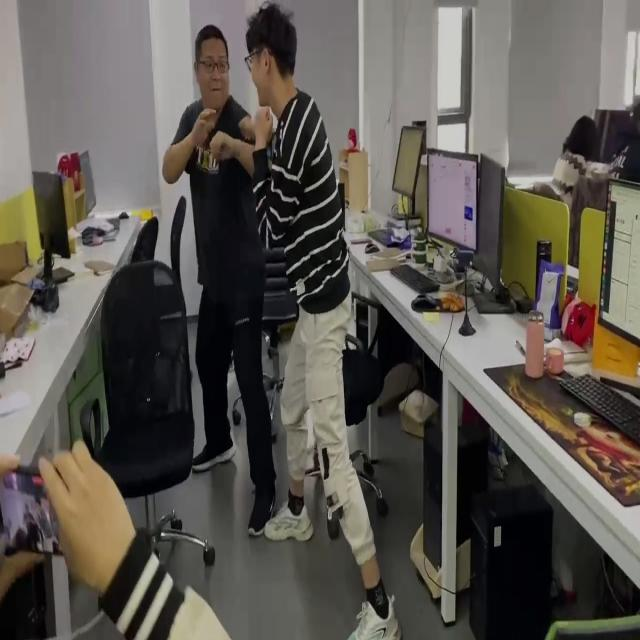fight: (165, 12, 402, 640)
